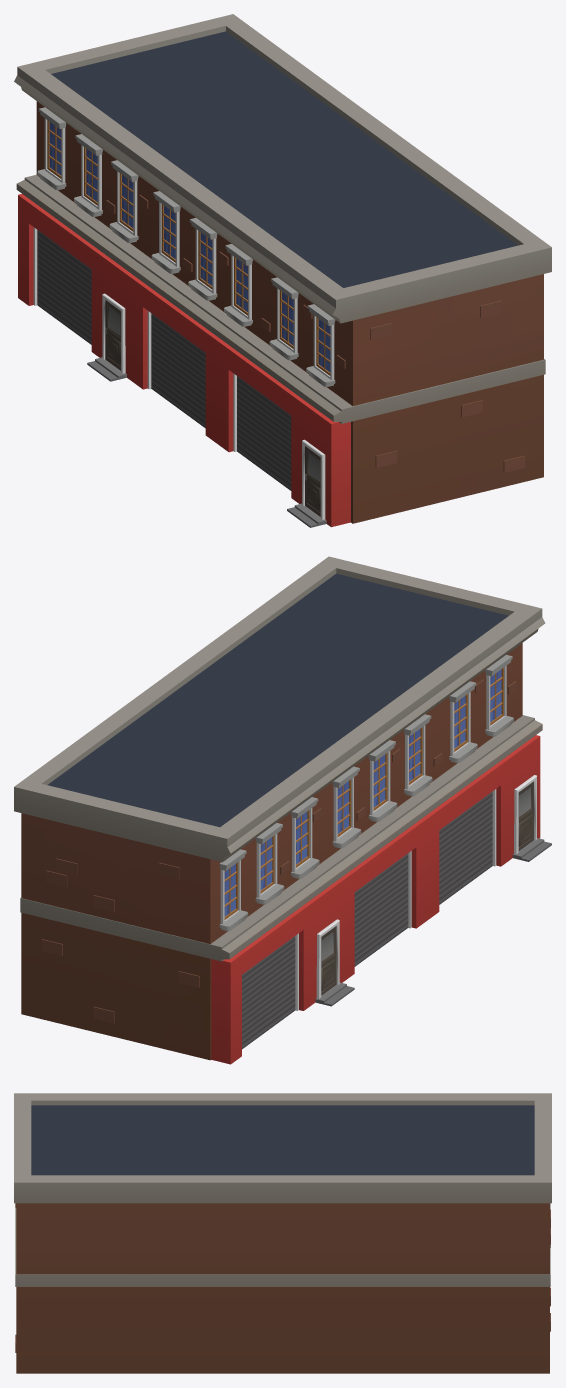
File: Building_20_3_I.fbx
The picture shows the model from 3 angles, top to bottom: view 1: azimuth 30°, elevation 25°; view 2: azimuth 150°, elevation 25°; view 3: azimuth 270°, elevation 25°; orthographic projection. The views are drawn at different scales.
Visible parts, largest first — view 1: Building_20_3_I; view 2: Building_20_3_I; view 3: Building_20_3_I.
Boxes of the visible parts, x1,y1,x2,y2 form: Building_20_3_I: (14,14,551,527); Building_20_3_I: (14,556,551,1064); Building_20_3_I: (14,1093,551,1373).
Bounding box in the file's own units: 774 × 726 × 1827.
